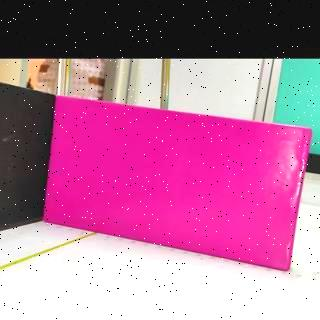xparking: (44, 95, 312, 271)
